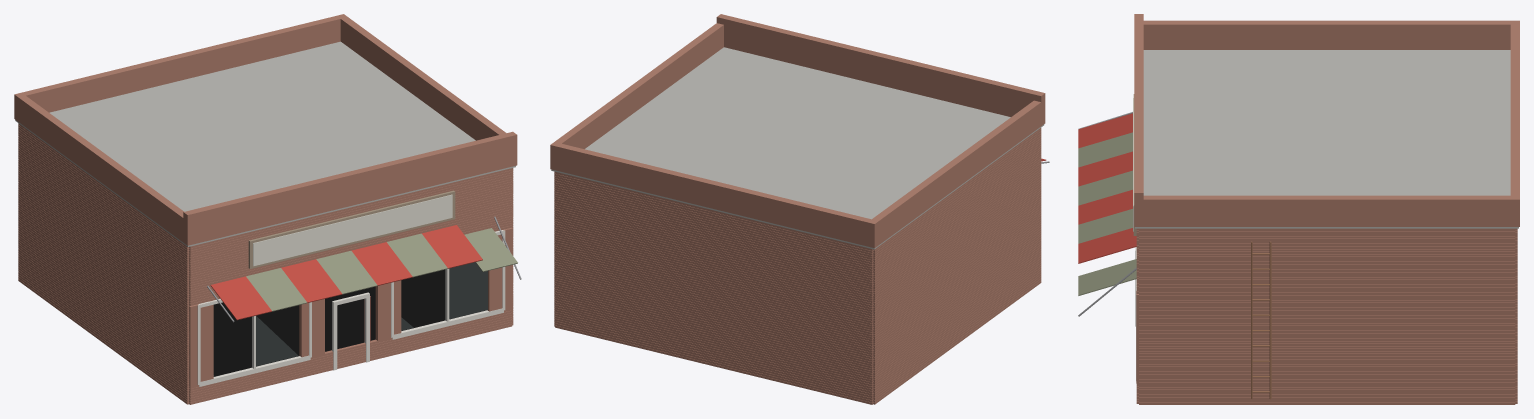
Rendered from shop.glb.
3 renders of one model, left to right at view 1: azimuth 30°, elevation 25°; view 2: azimuth 150°, elevation 25°; view 3: azimuth 270°, elevation 25°, orthographic. The views are drawn at different scales.
Visible parts, largest first — view 1: Shop; view 2: Shop; view 3: Shop.
Boxes of the visible parts, <box> form: Shop: <box>14,14,521,404</box>; Shop: <box>550,14,1049,404</box>; Shop: <box>1078,14,1519,404</box>.
Size of the model in its own units: 11.25 by 6.25 by 11.74.
